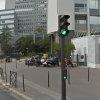Traffic light: (50, 7, 81, 43)
